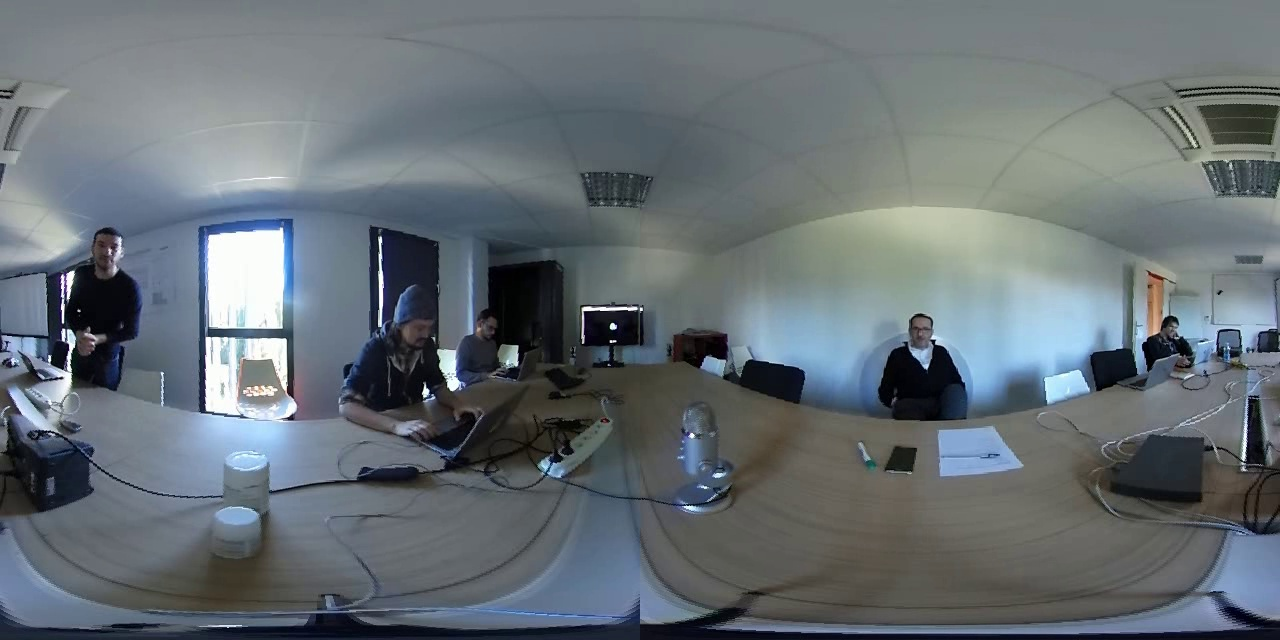person: (337, 285, 443, 425), (64, 221, 147, 380), (874, 309, 974, 416), (453, 304, 520, 376), (1143, 309, 1198, 365)
